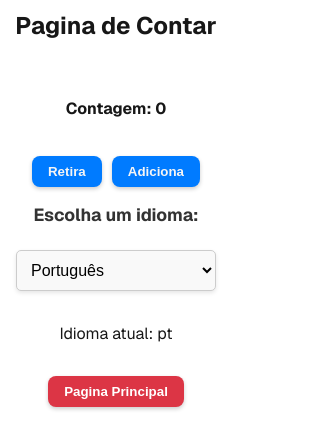
it: end2end testes › increment the count
Click the button with test id "increment" at (156,172), box [112, 156, 200, 187]
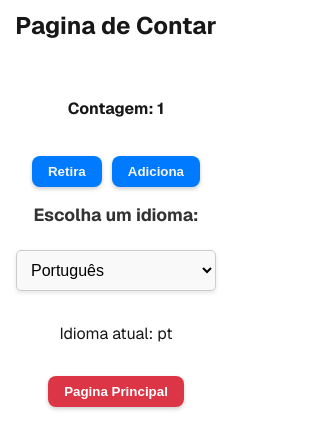
Check: the heading "Contagem: 1" is shown, box [68, 98, 164, 119]
Check: the heading with test id "count-value" reads "Contagem: 1", box [68, 98, 165, 119]
Click the button with test id "increment" at (156,172), box [112, 156, 200, 187]
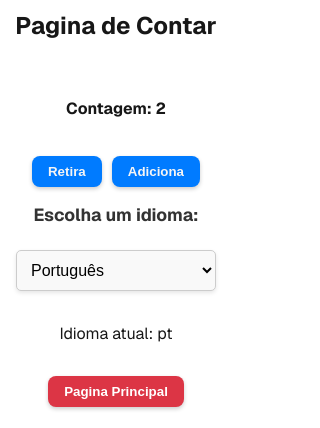
Click the button with test id "increment" at (156,172), box [112, 156, 200, 187]
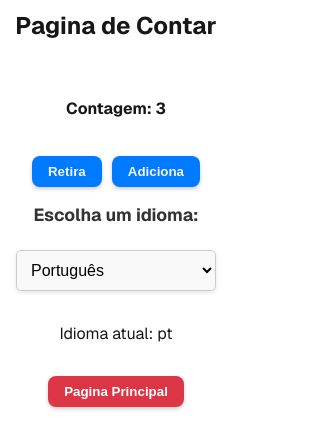
Check: the heading with test id "count-value" reads "Contagem: 3", box [66, 98, 166, 119]
